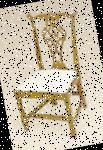Silla: (0, 3, 100, 148)
